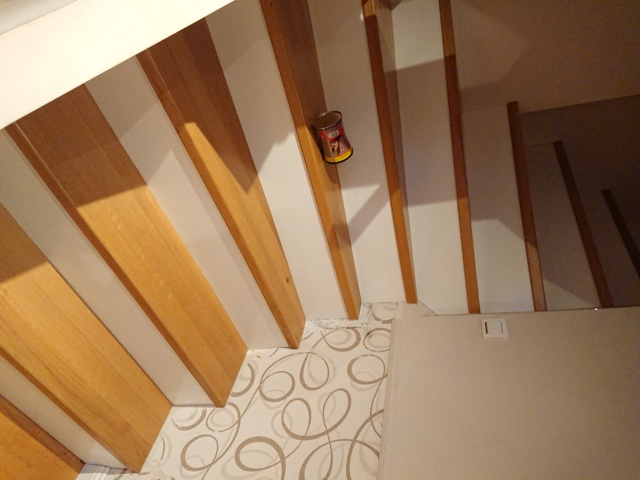Nescafe Classic 225g: (309, 108, 357, 167)
